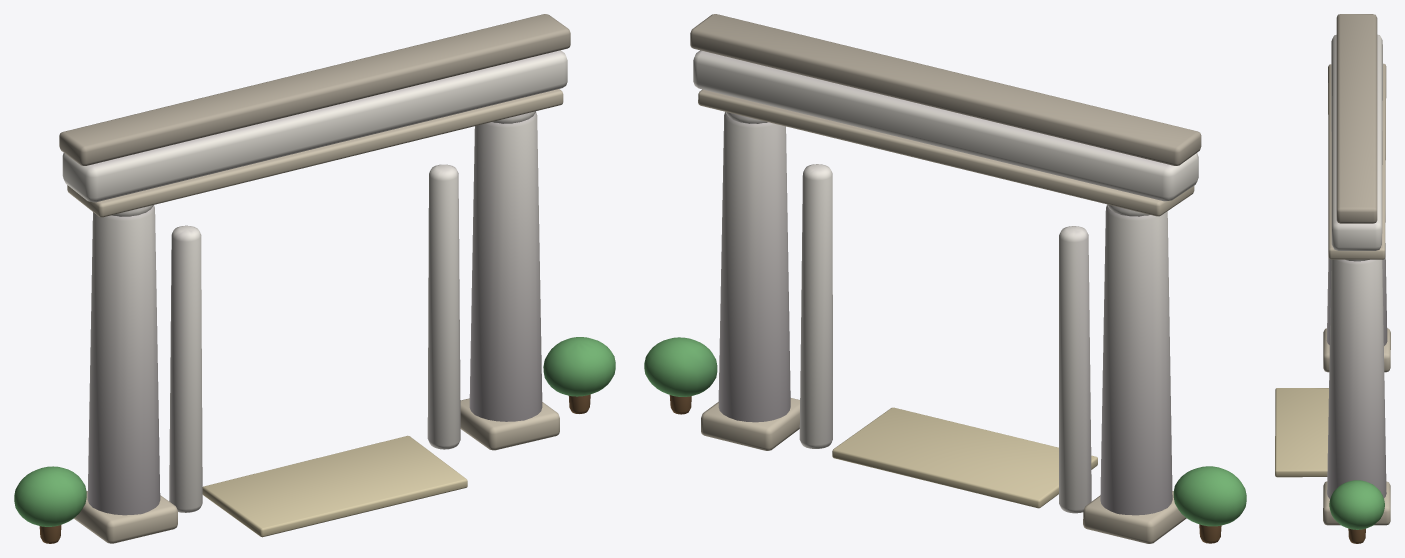
The picture shows the model from 3 angles, left to right: view 1: azimuth 30°, elevation 25°; view 2: azimuth 150°, elevation 25°; view 3: azimuth 270°, elevation 25°; orthographic projection. The views are drawn at different scales.
Parts seen in each view (by area): view 1: gate_ad88421d; view 2: gate_ad88421d; view 3: gate_ad88421d.
Boxes of the visible parts, x1=… form: gate_ad88421d: x1=14, y1=14, x2=615, y2=543; gate_ad88421d: x1=644, y1=14, x2=1246, y2=543; gate_ad88421d: x1=1275, y1=14, x2=1390, y2=543.
Bounding box in the file's own units: 6.89 × 4.4 × 1.42.
